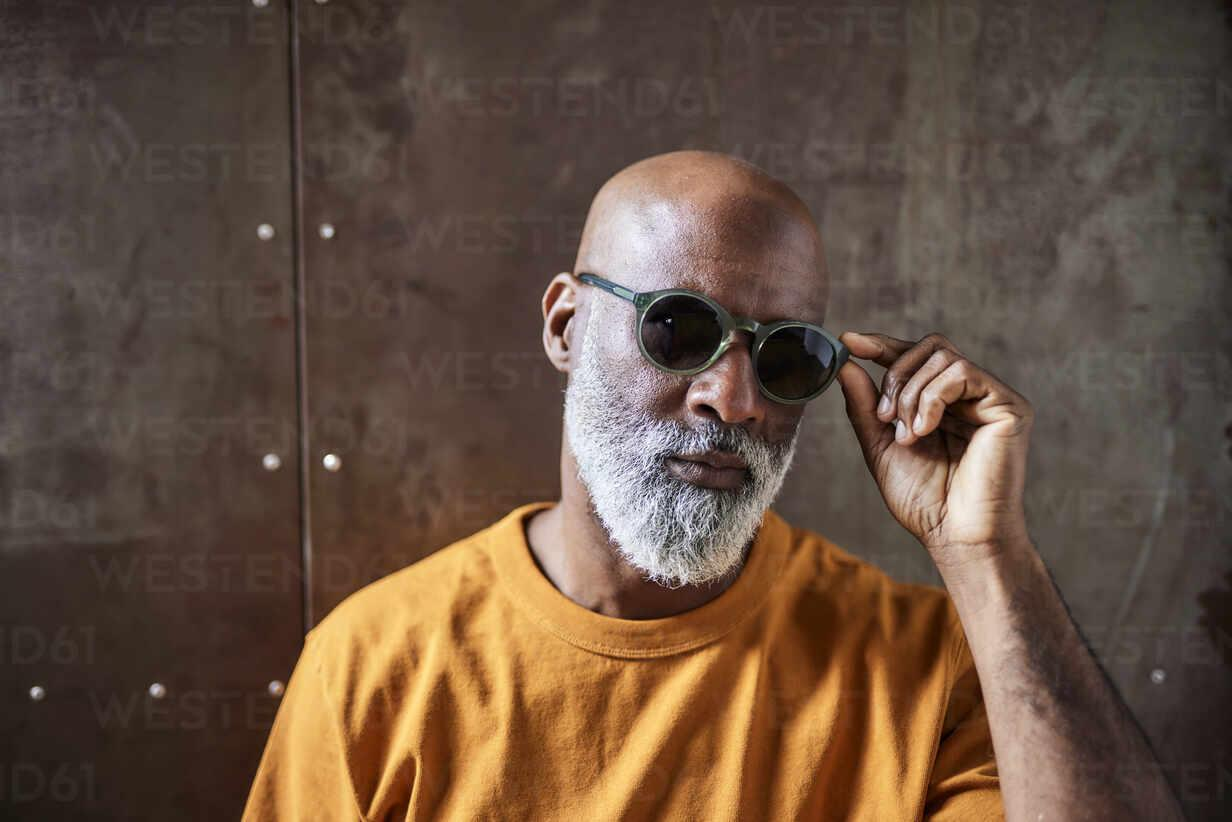sunglasses: (610, 266, 866, 426)
